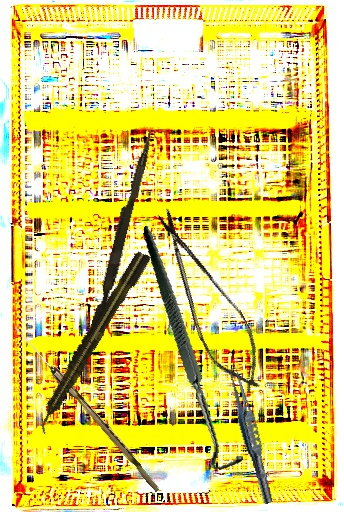Handpiece: (30, 248, 153, 436)
Hook Surgical: (105, 225, 280, 474)
Micro Scissor: (138, 199, 278, 404)
Pusher: (90, 127, 155, 331)
Surgical Spoon: (10, 323, 164, 493)
Tissue Forceps: (222, 365, 280, 506)
